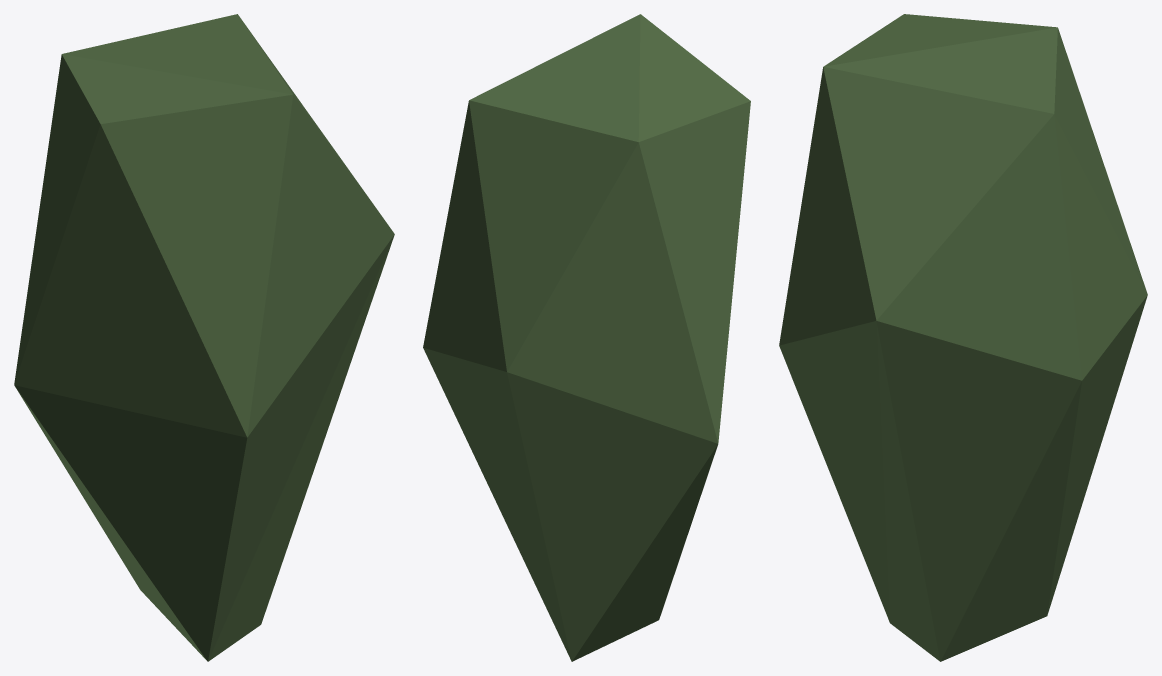
File: Cactus_1.lod4.glb
3 views of the same model, side by side, from view 1: azimuth 30°, elevation 25°; view 2: azimuth 150°, elevation 25°; view 3: azimuth 270°, elevation 25° (orthographic). The views are drawn at different scales.
Visible parts, largest first — view 1: Cactus_1; view 2: Cactus_1; view 3: Cactus_1.
Part boxes in pixels (left/top/right/bottom): Cactus_1: left=14, top=14, right=394, bottom=661; Cactus_1: left=423, top=14, right=750, bottom=661; Cactus_1: left=779, top=14, right=1147, bottom=661.
Bounding box in the file's own units: 0.5525 × 0.9956 × 0.5714.
